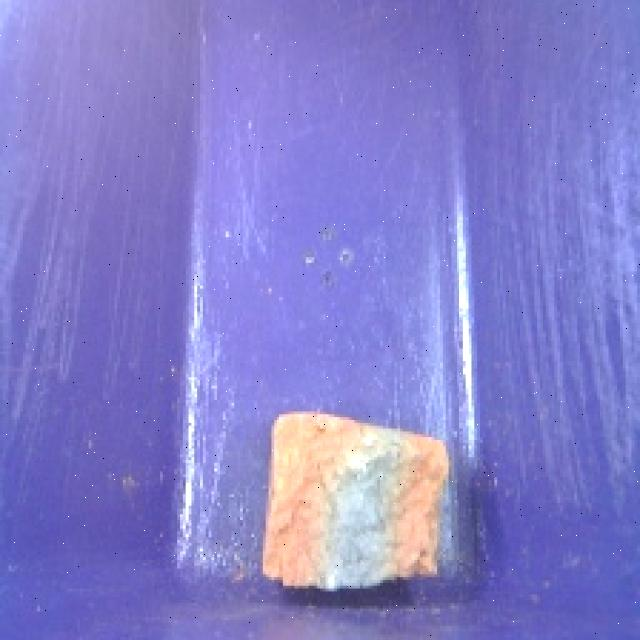brick: (255, 400, 458, 604)
